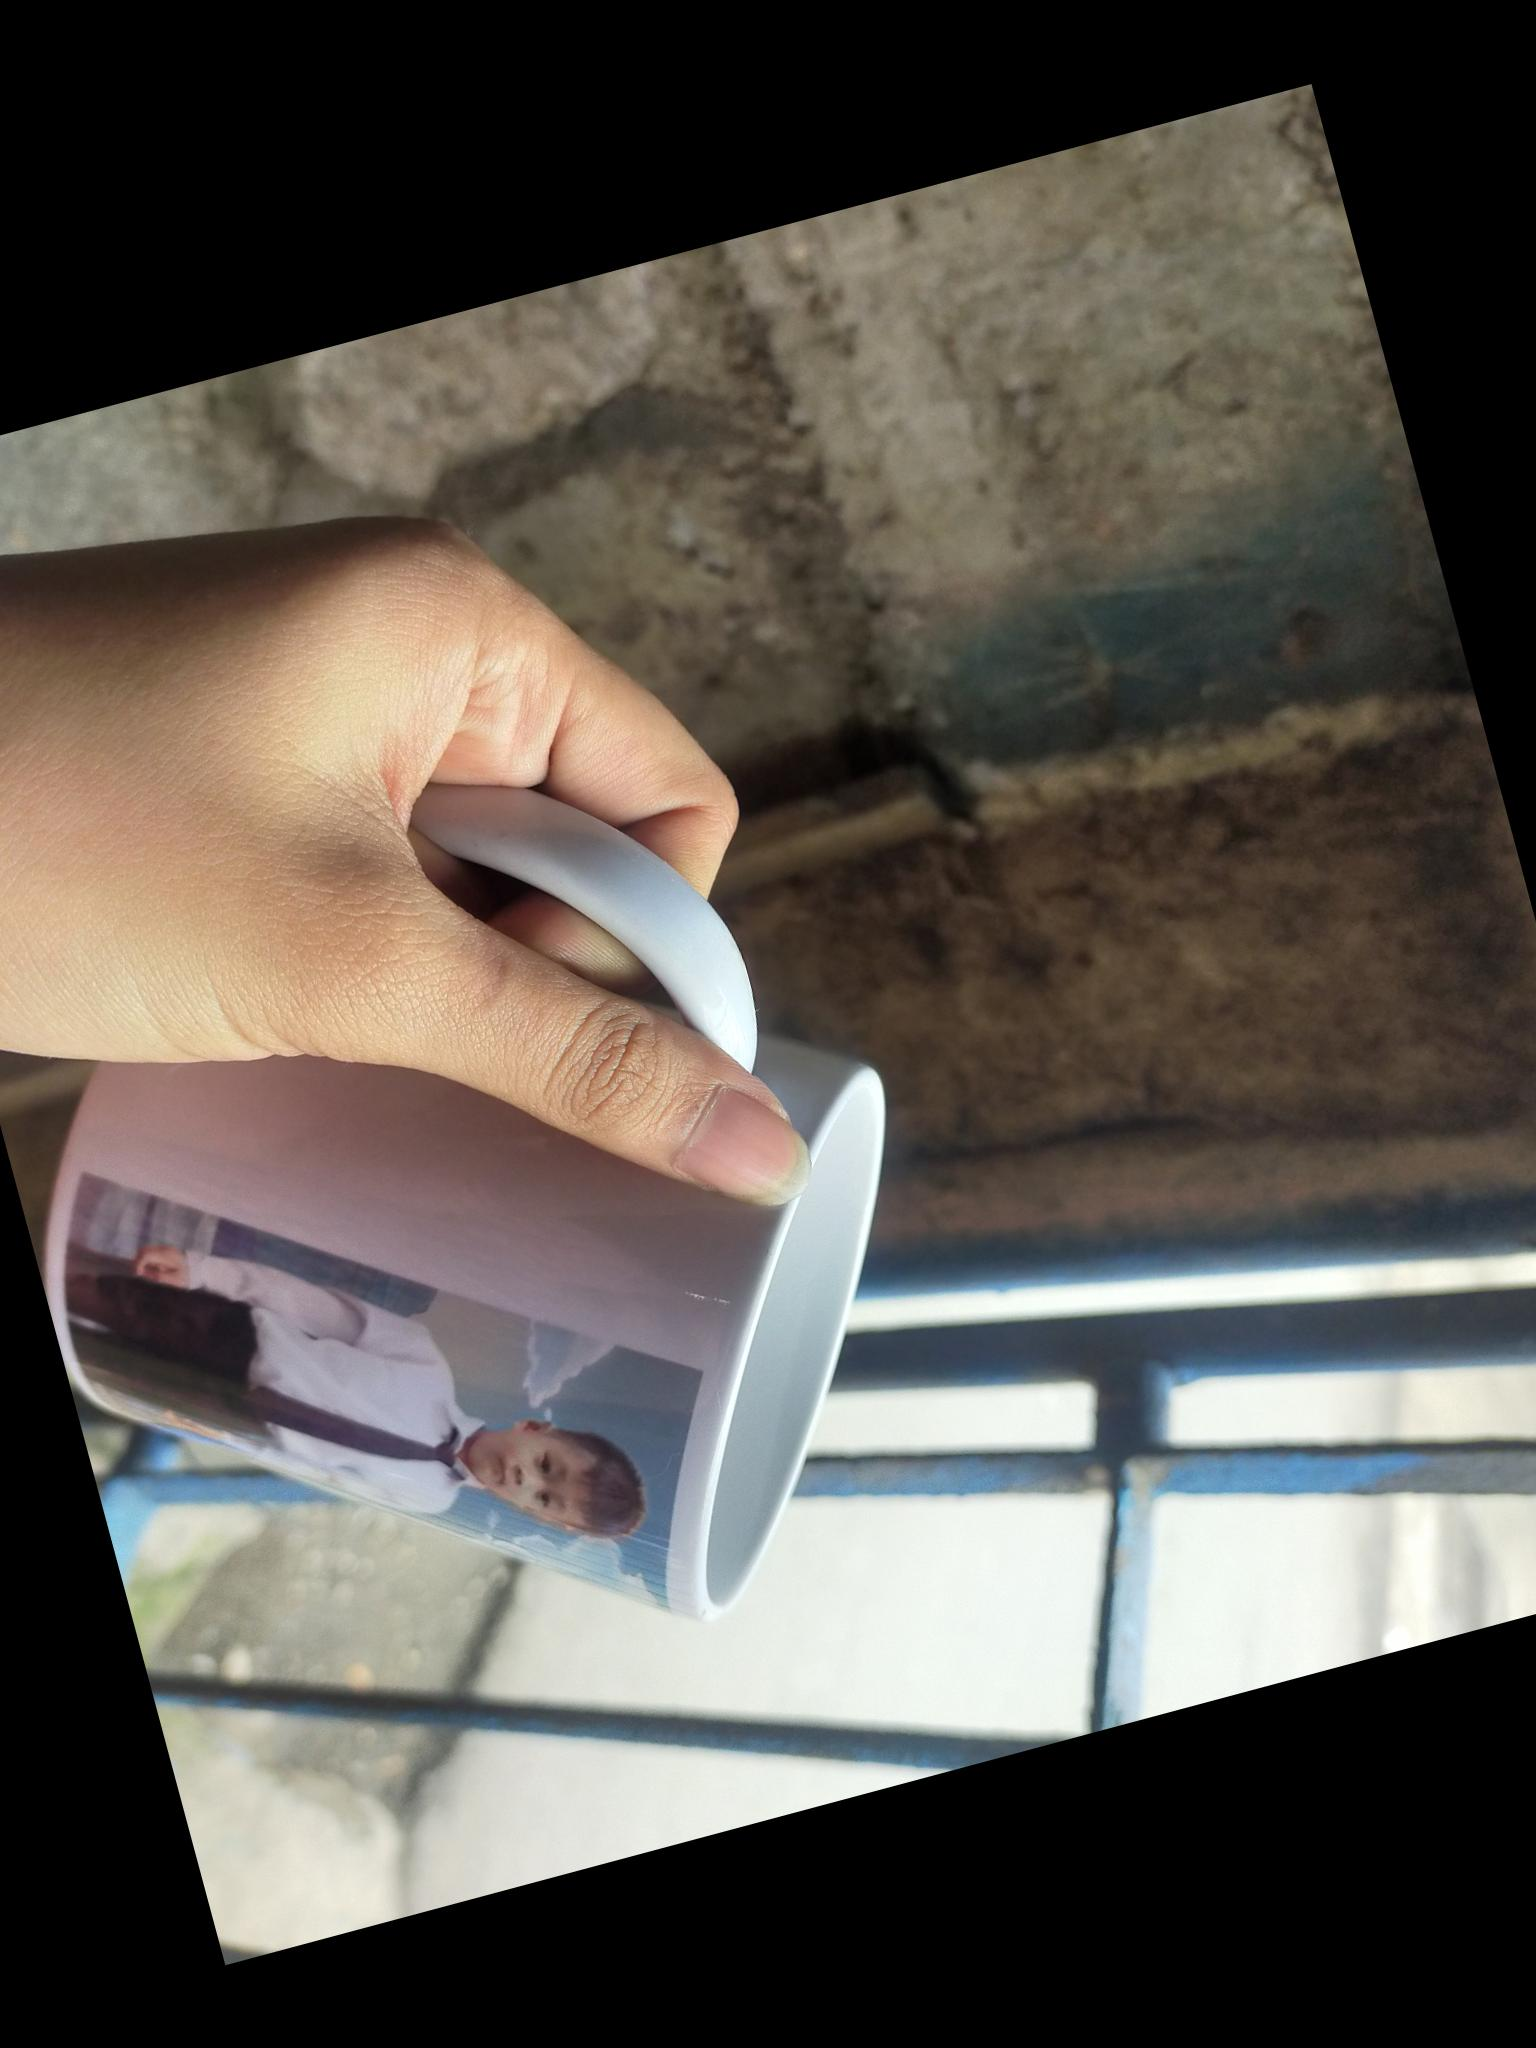Coffee Mug: (0, 700, 1005, 1758)
